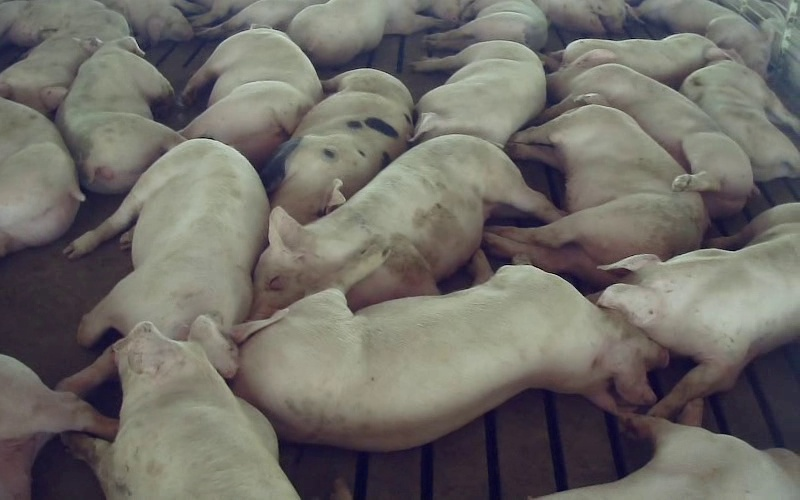pig: (233, 248, 667, 450), (484, 92, 708, 285), (598, 203, 799, 416), (66, 316, 298, 499), (65, 139, 269, 345), (544, 50, 753, 217), (536, 398, 799, 499), (261, 69, 413, 223), (180, 25, 322, 168), (56, 37, 184, 193), (679, 51, 799, 180), (412, 41, 545, 146), (0, 8, 129, 113), (0, 97, 84, 256), (287, 0, 442, 66), (636, 0, 770, 76), (562, 33, 730, 88), (425, 0, 547, 49)
